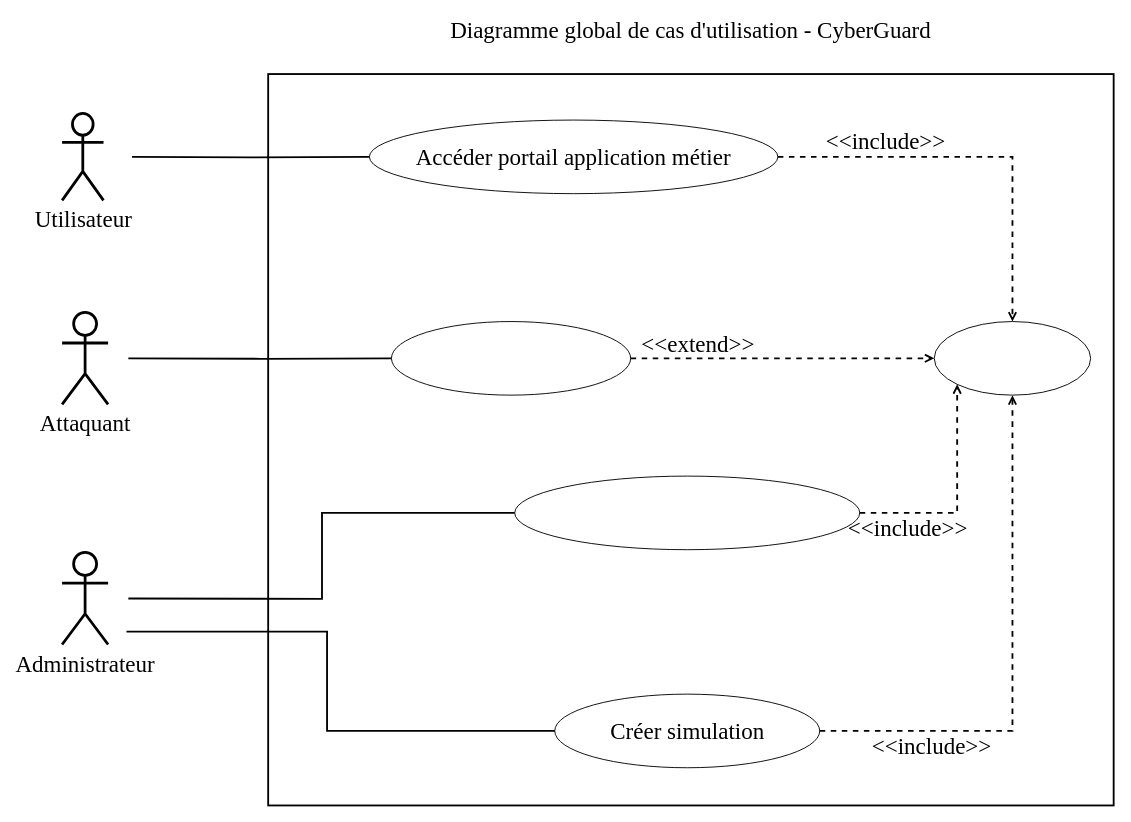
Image size: 1131x822. Some labels were removed from this diagram. The box of each missing label's shape, as (x1, y1, x2, y2) in pixels:
S'authenfier: (933, 321, 1091, 395)
Superviser tableau de bord SOC: (514, 475, 860, 550)
Tenter intrusion: (391, 321, 631, 395)
